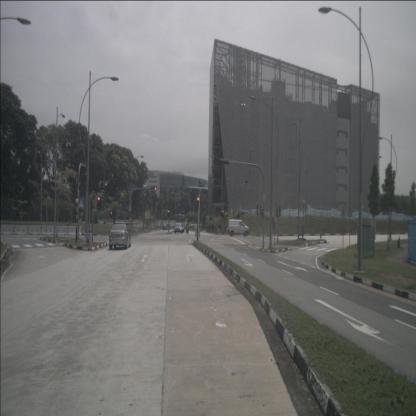cone: (88, 232, 92, 248), (396, 236, 401, 248)
